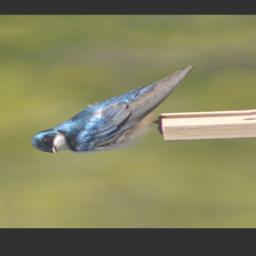Swallow: (3, 65, 227, 160)
